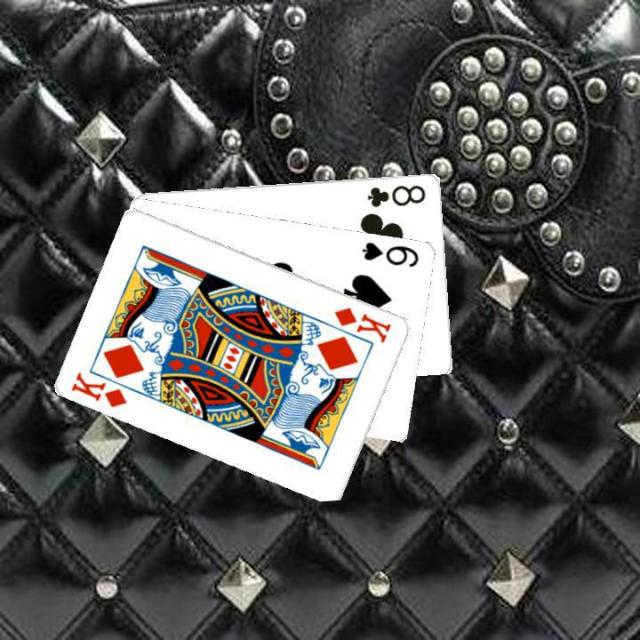6S: (358, 238, 422, 268)
8C: (363, 180, 428, 209)
KD: (331, 303, 394, 345), (66, 368, 130, 409)
